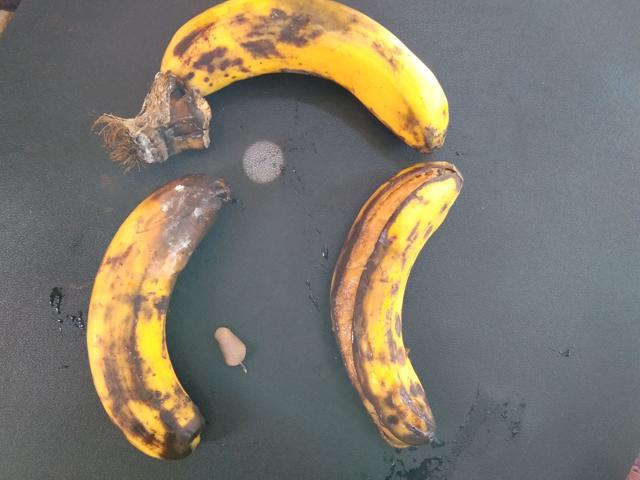overripe: (132, 0, 444, 147)
rotten: (55, 171, 270, 452), (320, 147, 480, 479)
